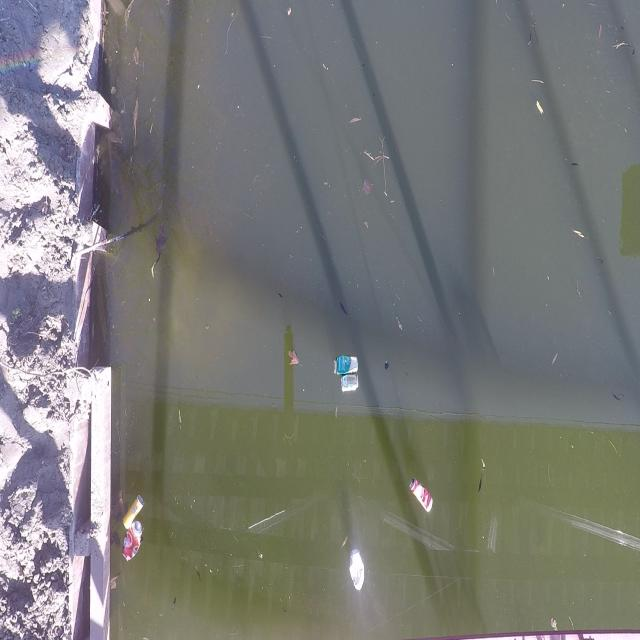Non plastique: (120, 520, 143, 564), (409, 480, 435, 515), (347, 548, 366, 592), (123, 494, 145, 530), (332, 356, 360, 375), (341, 376, 361, 393)
